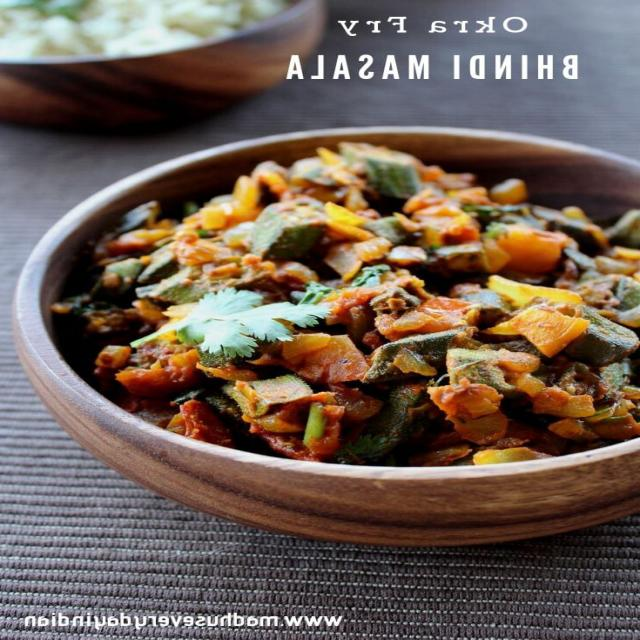Bhindi Masala: (58, 137, 637, 475)
